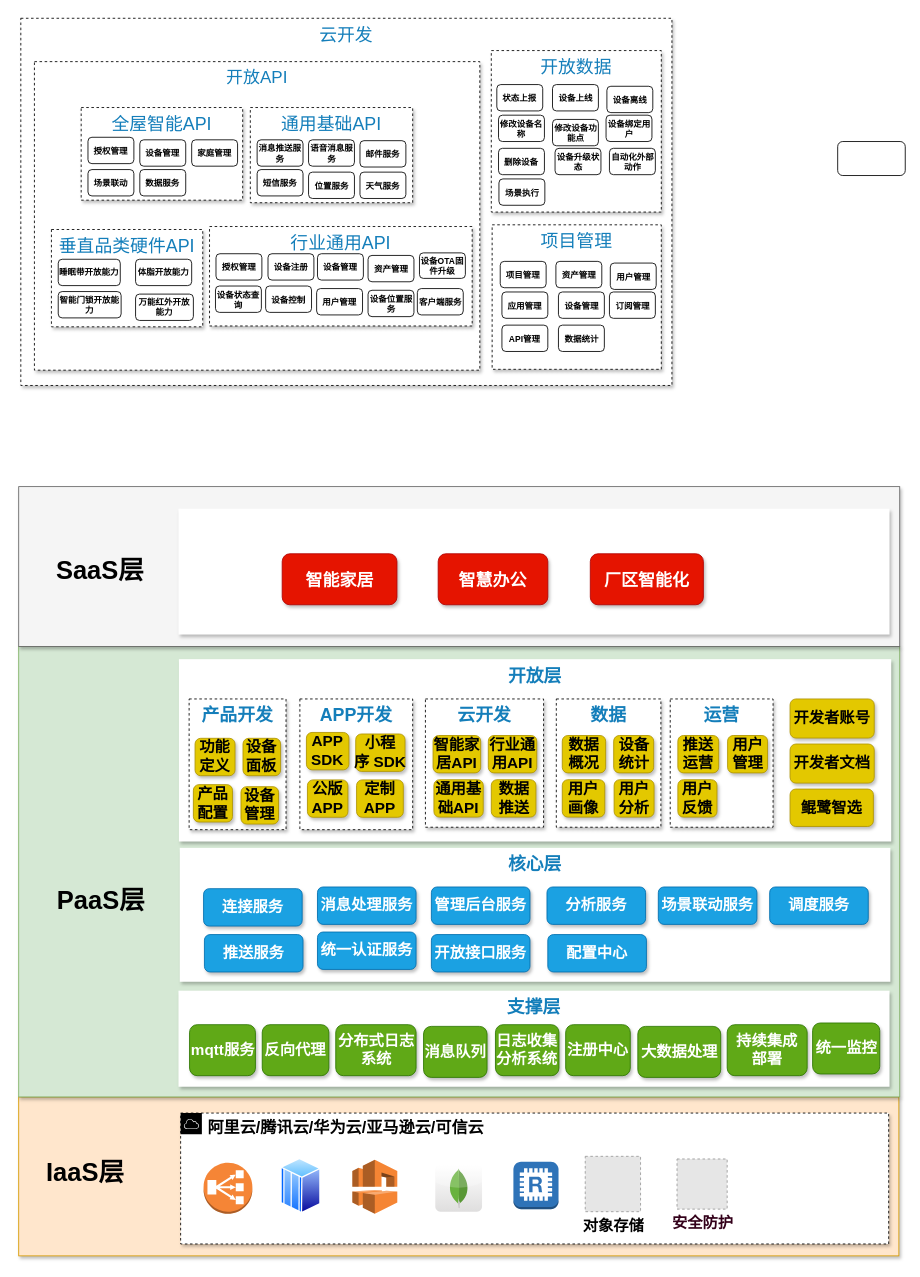
This 920x1277 diagram has some shape labels left out. Grey dashed boxes stand in for pictures. Here are the shapes that lost their labels. From the top down, the centre of each, then its label:
At [871,158]: "消息订阅".
At [227,1188]: "负载均衡".
At [300,1185]: "云主机".
At [374,1186]: "VPC".
At [458,1188]: "云数据库".
At [536,1185]: "云缓存".
